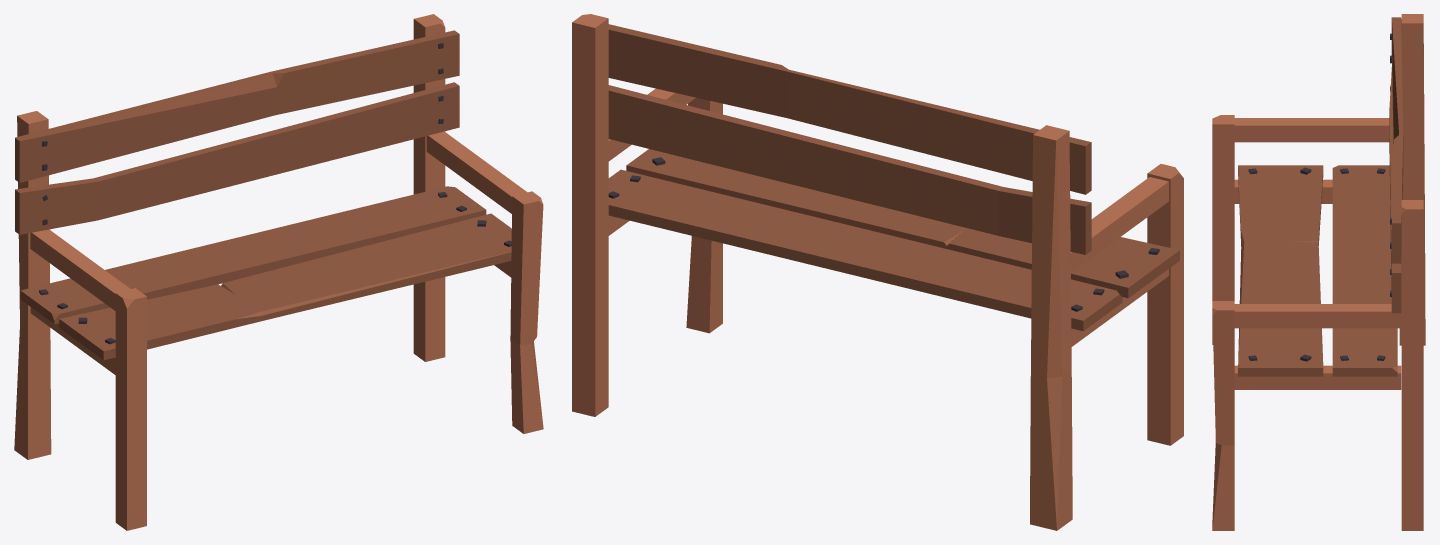
Rendered from Bench_2.fbx.
The picture shows the model from 3 angles, left to right: view 1: azimuth 30°, elevation 25°; view 2: azimuth 150°, elevation 25°; view 3: azimuth 270°, elevation 25°; orthographic projection. The views are drawn at different scales.
Parts seen in each view (by area): view 1: Bench_2; view 2: Bench_2; view 3: Bench_2.
Boxes of the visible parts, x1=… form: Bench_2: x1=14, y1=14, x2=543, y2=530; Bench_2: x1=572, y1=14, x2=1183, y2=530; Bench_2: x1=1212, y1=14, x2=1425, y2=530.
Size of the model in its own units: 1.83 by 1.33 by 0.7986.
